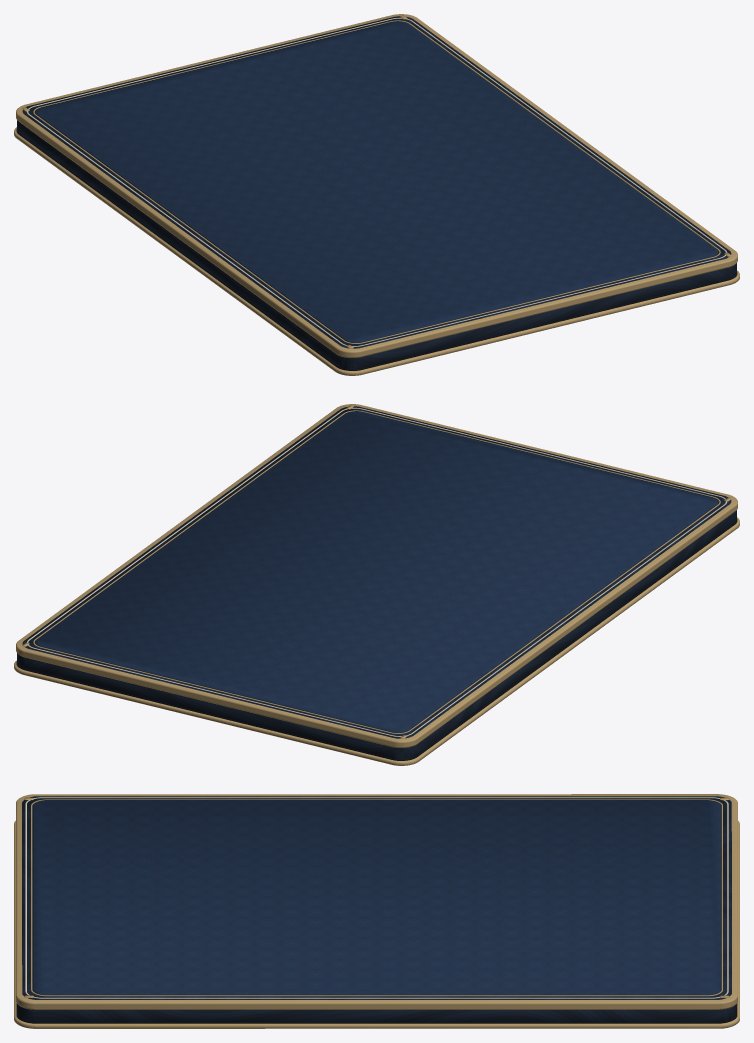
The model's file is deck-place-lod1.glb.
3 views of the same model, one above another, from view 1: azimuth 30°, elevation 25°; view 2: azimuth 150°, elevation 25°; view 3: azimuth 270°, elevation 25° (orthographic). The views are drawn at different scales.
Parts seen in each view (by area): view 1: 02 Woven navy contact surface, 03 Satin champagne brass, 01 Ink navy stained wood, 04 Warm silver pinstripe, 05 Graphite contact foot; view 2: 02 Woven navy contact surface, 03 Satin champagne brass, 01 Ink navy stained wood, 04 Warm silver pinstripe, 05 Graphite contact foot; view 3: 02 Woven navy contact surface, 03 Satin champagne brass, 01 Ink navy stained wood, 04 Warm silver pinstripe, 05 Graphite contact foot.
Part boxes in pixels (x1,y1,x2,y2): 02 Woven navy contact surface: [35, 21, 718, 342]; 03 Satin champagne brass: [14, 14, 739, 375]; 01 Ink navy stained wood: [17, 16, 736, 369]; 04 Warm silver pinstripe: [26, 17, 727, 346]; 05 Graphite contact foot: [16, 129, 737, 370]; 02 Woven navy contact surface: [35, 411, 718, 732]; 03 Satin champagne brass: [14, 404, 739, 765]; 01 Ink navy stained wood: [17, 406, 736, 759]; 04 Warm silver pinstripe: [26, 407, 727, 736]; 05 Graphite contact foot: [16, 519, 737, 760]; 02 Woven navy contact surface: [33, 800, 720, 995]; 03 Satin champagne brass: [14, 794, 739, 1028]; 01 Ink navy stained wood: [17, 796, 736, 1022]; 04 Warm silver pinstripe: [25, 797, 728, 998]; 05 Graphite contact foot: [16, 1003, 737, 1023].
Bounding box in the file's own units: 0.136 × 0.00879 × 0.198.
5 materials, 2 textured.
